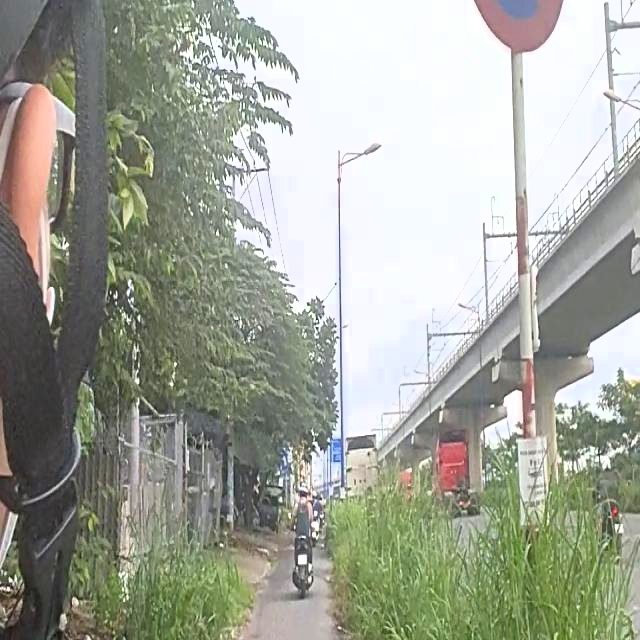I.409: (278, 452, 288, 472)
